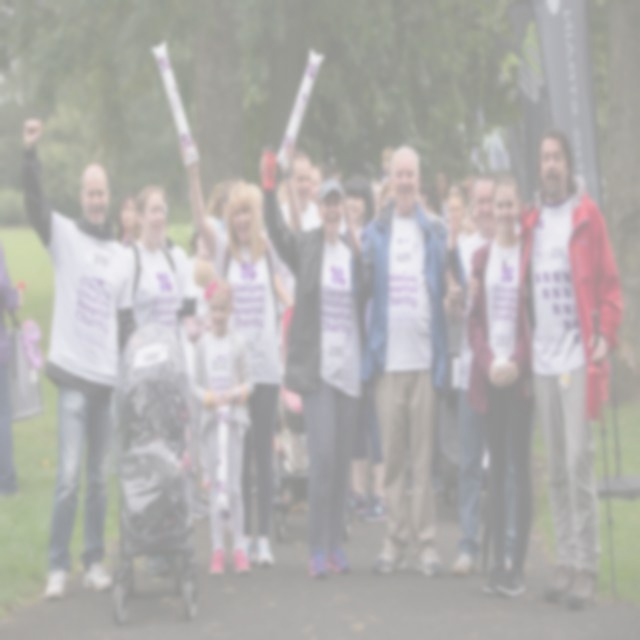pessoa: (18, 115, 154, 607), (180, 132, 304, 570), (515, 122, 625, 611), (347, 144, 465, 578), (259, 142, 365, 579), (466, 168, 538, 600), (207, 177, 291, 503), (442, 170, 500, 578), (189, 272, 256, 578), (343, 175, 389, 524), (124, 184, 182, 346), (0, 184, 26, 502), (186, 219, 213, 521), (158, 201, 199, 341), (422, 172, 480, 246), (278, 148, 322, 232), (413, 176, 450, 242), (404, 450, 454, 498), (202, 178, 237, 236), (115, 190, 142, 250), (308, 161, 345, 201), (364, 180, 384, 218), (378, 177, 396, 214), (380, 146, 397, 185), (272, 177, 290, 207), (140, 431, 168, 448)
